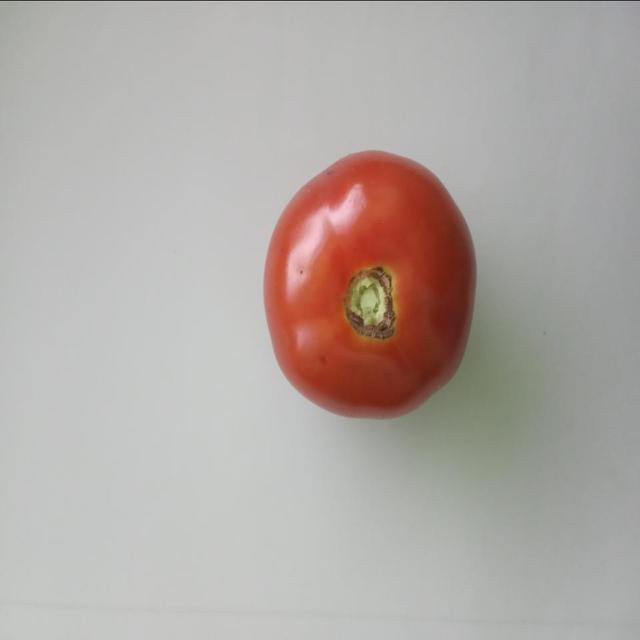Healthy Fruit: (170, 89, 324, 287)
